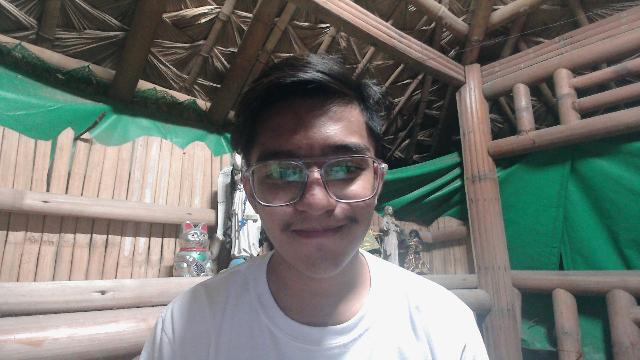senang: (242, 91, 385, 278)
